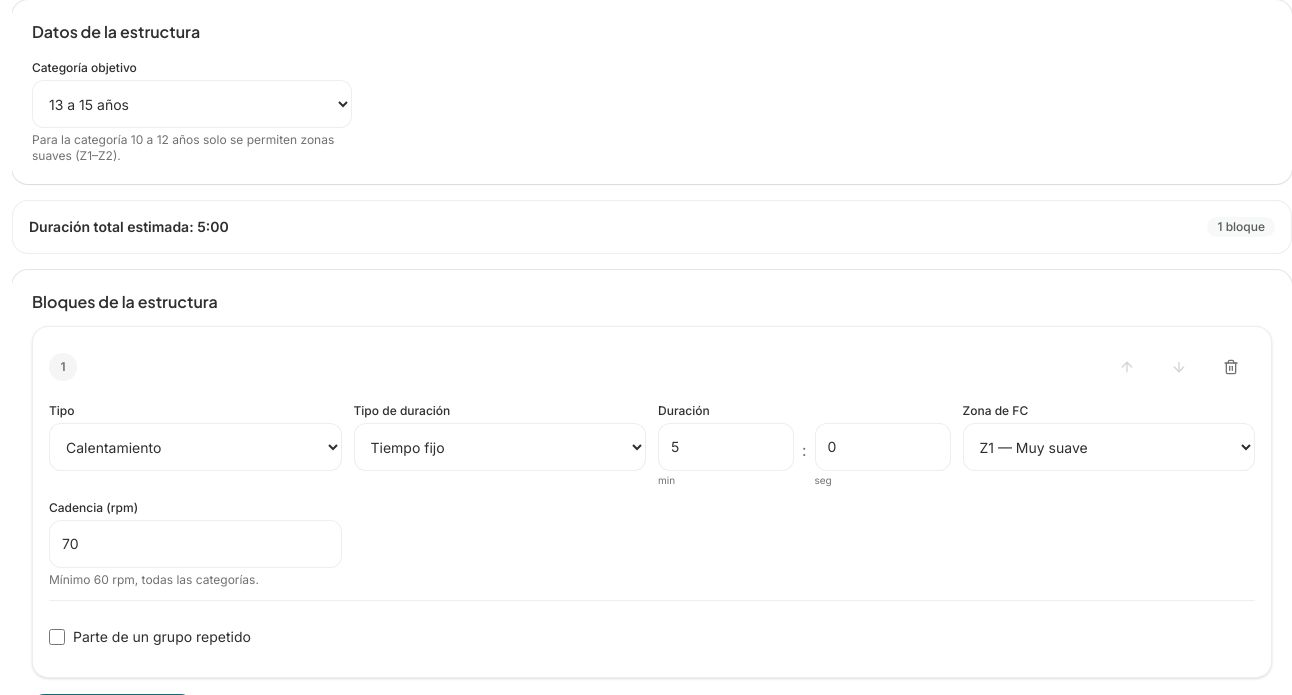
Test: StructureEditor — agregar y quitar bloques › quitar el único bloque muestra el mensaje vacío y deshabilita el envío
Click the button named "Quitar bloque 1" at (1231, 367), box [1207, 343, 1255, 391]
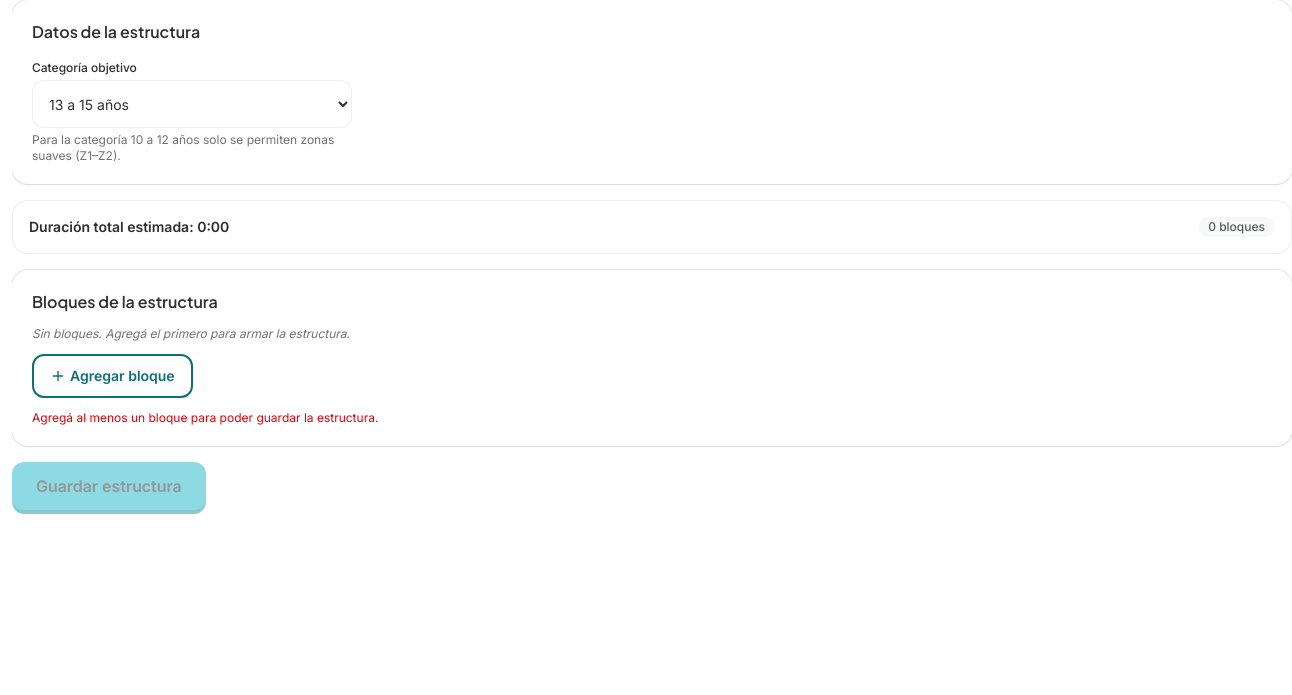
Expected: the text "Sin bloques. Agregá el primero para armar la estructura." is shown, [32, 326, 350, 341]
Expected: the text "Agregá al menos un bloque para poder guardar la estructura." is shown, [32, 410, 378, 425]
Expected: the button "Guardar estructura" is disabled, [12, 462, 206, 510]
